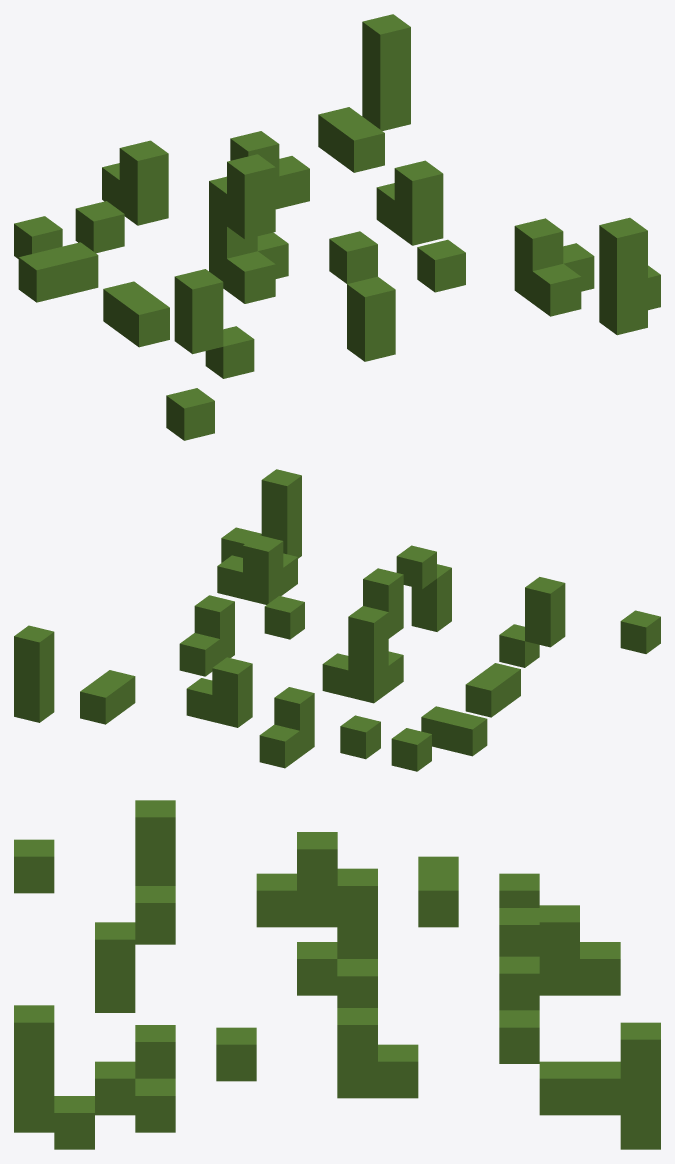
The model's file is grass_decoration.gltf.
3 renders of one model, top to bottom at view 1: azimuth 30°, elevation 25°; view 2: azimuth 150°, elevation 25°; view 3: azimuth 270°, elevation 25°, orthographic. The views are drawn at different scales.
Size of the model in its own units: 16 by 4 by 16.
Materials: 1 (1 with a texture image).
